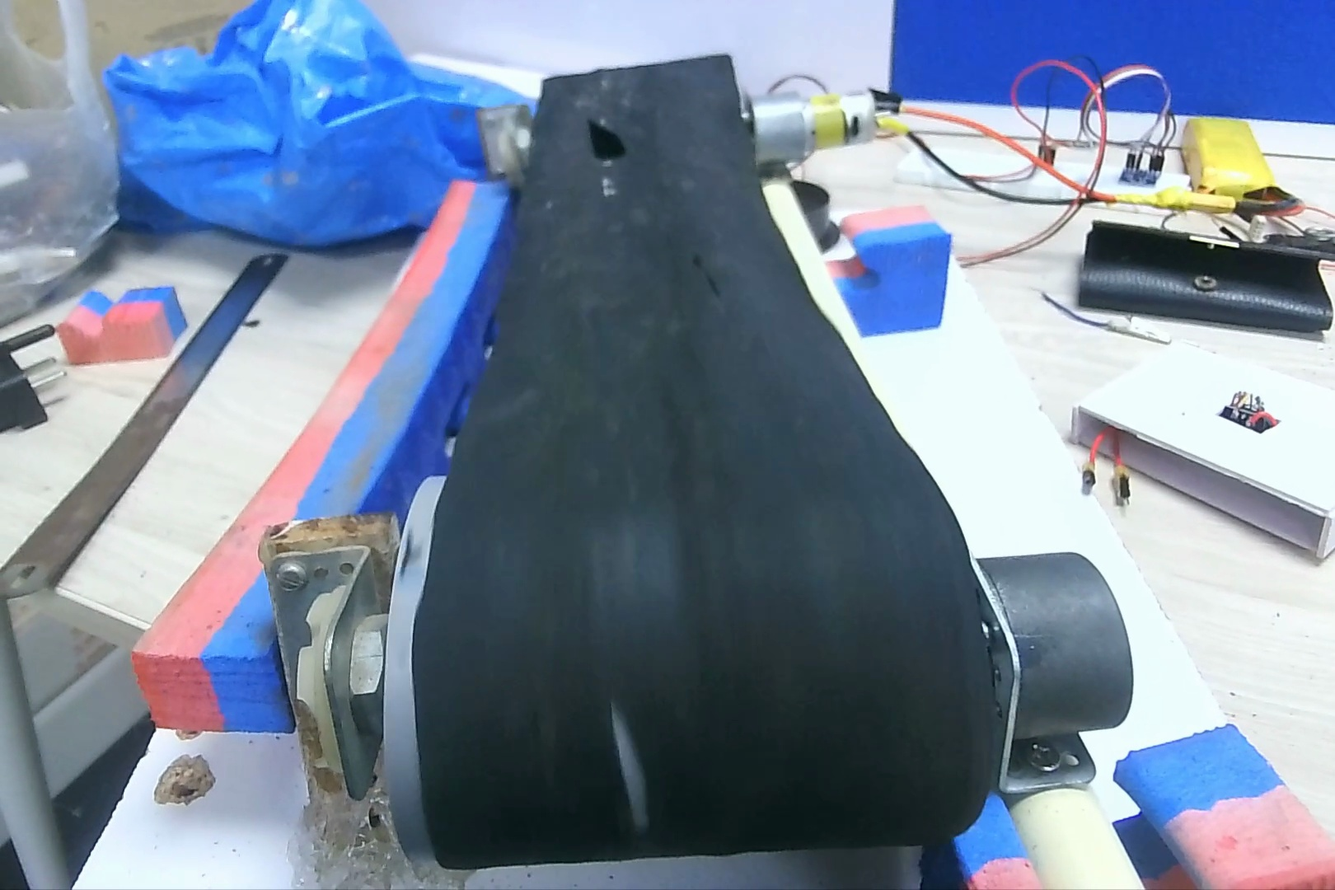tear: (599, 686, 641, 828)
